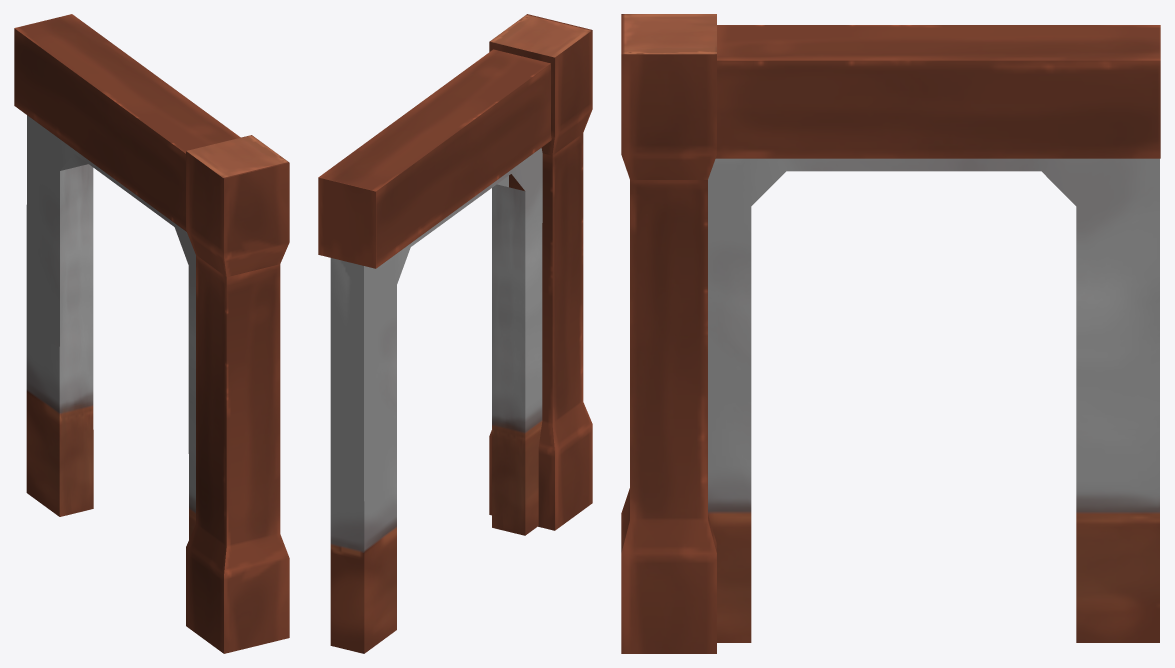
File: Pri_Urb_Inside_WallDoor.fbx
3 views of the same model, side by side, from view 1: azimuth 30°, elevation 25°; view 2: azimuth 150°, elevation 25°; view 3: azimuth 270°, elevation 25° (orthographic). The views are drawn at different scales.
Visible parts, largest first — view 1: Pri_Urb_Inside_WallDoor; view 2: Pri_Urb_Inside_WallDoor; view 3: Pri_Urb_Inside_WallDoor.
Boxes of the visible parts, bbox=[...] form: Pri_Urb_Inside_WallDoor: bbox=[14, 14, 289, 653]; Pri_Urb_Inside_WallDoor: bbox=[318, 14, 592, 653]; Pri_Urb_Inside_WallDoor: bbox=[621, 14, 1160, 653].
Bounding box in the file's own units: 77.91 × 538 × 439.
